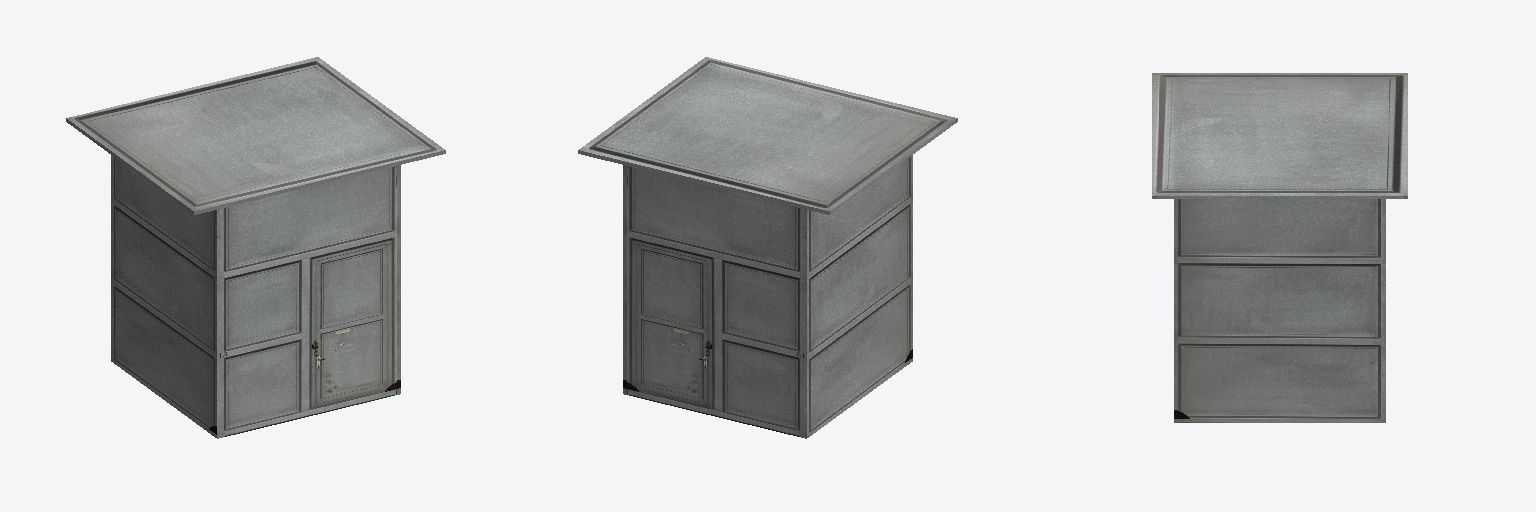
3 views of the same model, side by side, from view 1: azimuth 30°, elevation 25°; view 2: azimuth 150°, elevation 25°; view 3: azimuth 270°, elevation 25° (orthographic).
Parts seen in each view (by area): view 1: elevatorHouse_3; view 2: elevatorHouse_3; view 3: elevatorHouse_3.
Part boxes in pixels (x1,y1,x2,y2): elevatorHouse_3: (66, 57, 445, 438); elevatorHouse_3: (578, 57, 957, 438); elevatorHouse_3: (1152, 73, 1407, 422).
Size of the model in its own units: 3.09 by 2.85 by 2.71.
Materials: 1 (1 with a texture image).